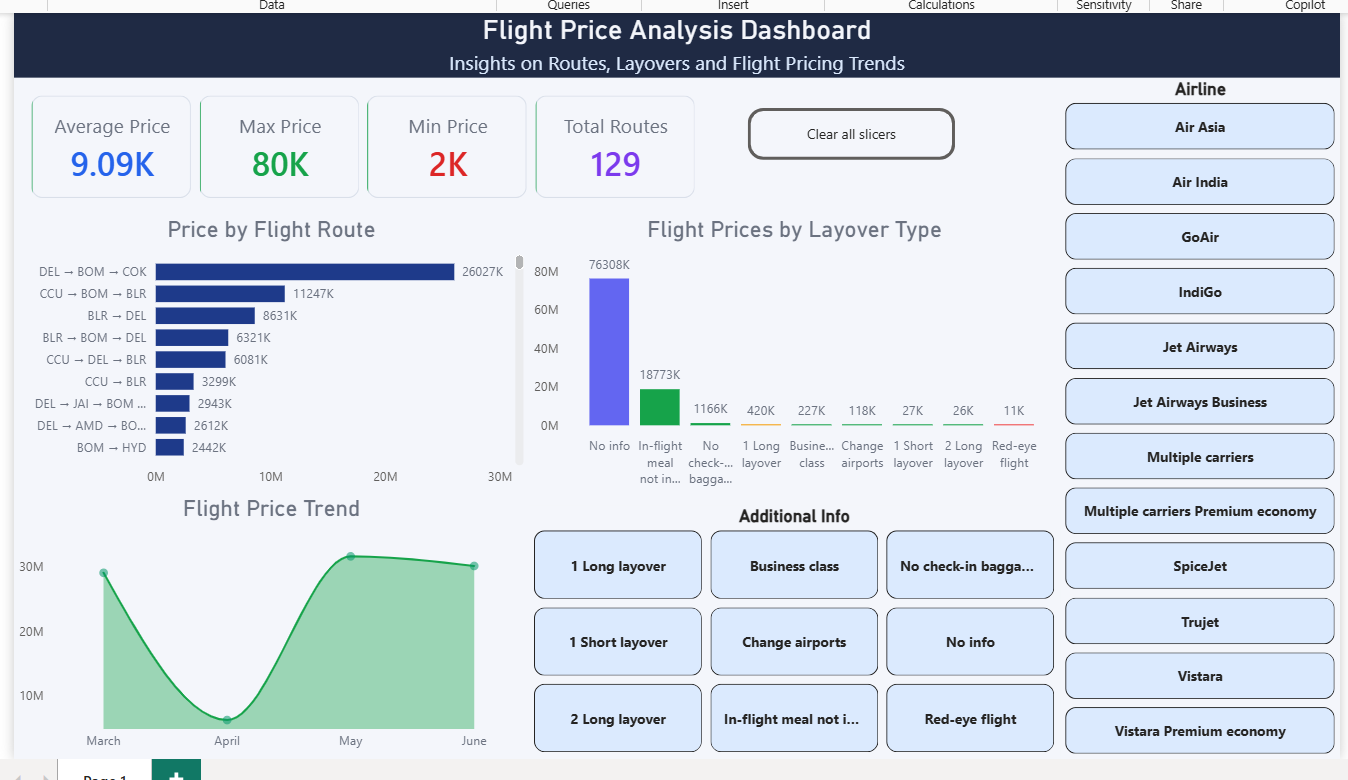

The dashboard page shown, as its layout file describes it:
{"tool":"powerbi","page":{"name":"Page 1","canvas":[1280,720],"ordinal":0},"visuals":[{"type":"textbox","title":"Flight Price Analysis Dashboard","box":[0,0,1280,62.7],"z":0},{"type":"cardVisual","fields":{"Data":["Flights.Average Price","Flights.Max Price","Flights.Min Price","Flights.Total Routes"]},"box":[0,62.7,674.4,133.9],"z":1000},{"type":"clusteredBarChart","title":"Price by Flight Route","fields":{"Category":["Flights.Route"],"Y":["Sum(Flights.Price)"]},"box":[0,196.6,497.1,269],"z":2000},{"type":"columnChart","title":"Flight Prices by Layover Type","fields":{"Category":["Flights.Additional_Info"],"Y":["Sum(Flights.Price)"]},"box":[496.7,196.5,512.6,268.5],"z":3000},{"type":"lineChart","title":"Flight Price Trend","fields":{"Y":["Sum(Flights.Price)"],"Category":["Flights.Date_of_Journey.Variation.Date Hierarchy.Month"]},"box":[0,465,512.6,255.1],"z":3001},{"type":"advancedSlicerVisual","fields":{"Values":["Flights.Airline"]},"box":[1009.3,62.2,270.9,657.8],"z":3002},{"type":"advancedSlicerVisual","fields":{"Values":["Flights.Additional_Info"]},"box":[496.7,474.8,512.6,245.3],"z":3003},{"type":"actionButton","box":[707.9,91.5,200.2,50],"z":3004}]}

Visuals, with their boxes on the page's 1280x720 design canvas (x1, y1, x2, y2). These are canvas units, not pixel positions in the 1348x780 screenshot, which may show the page scaled, cropped or inside an application window:
"Flight Price Analysis Dashboard" textbox: select_region(0, 0, 1280, 63)
cardVisual - Flights.Average Price x Flights.Max Price: select_region(0, 63, 674, 197)
"Price by Flight Route" clusteredBarChart: select_region(0, 197, 497, 466)
"Flight Prices by Layover Type" columnChart: select_region(497, 196, 1009, 465)
"Flight Price Trend" lineChart: select_region(0, 465, 513, 720)
advancedSlicerVisual - Flights.Airline: select_region(1009, 62, 1280, 720)
advancedSlicerVisual - Flights.Additional_Info: select_region(497, 475, 1009, 720)
actionButton: select_region(708, 92, 908, 142)
